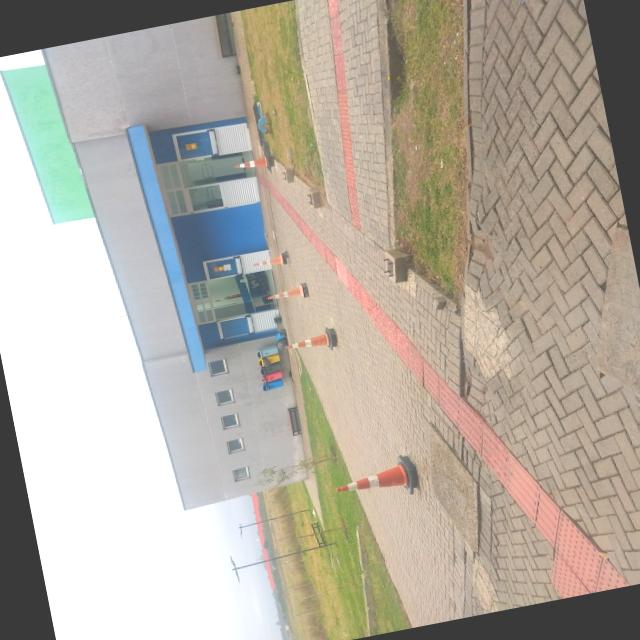cone: (318, 448, 427, 515), (276, 319, 344, 359), (260, 279, 312, 306), (232, 148, 276, 176), (248, 247, 290, 271)
